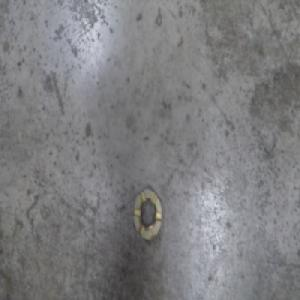Nut: (132, 182, 164, 243)
